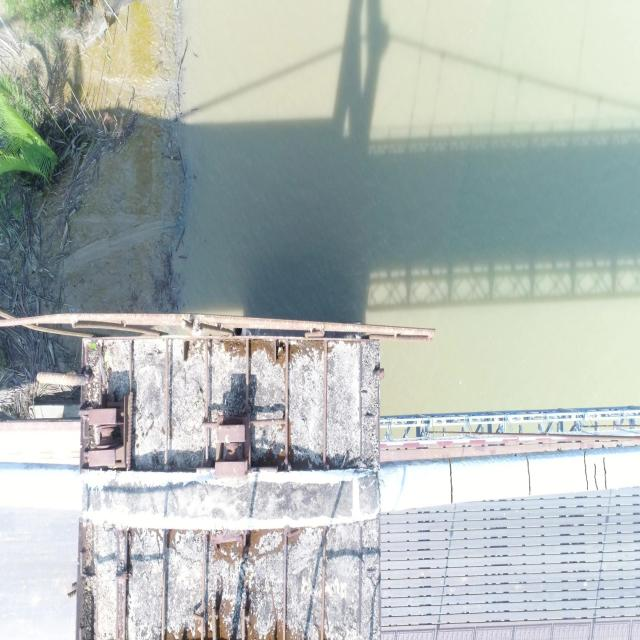crack: (448, 459, 454, 504), (583, 452, 589, 489), (526, 454, 531, 495), (603, 457, 607, 489), (594, 464, 598, 490)
